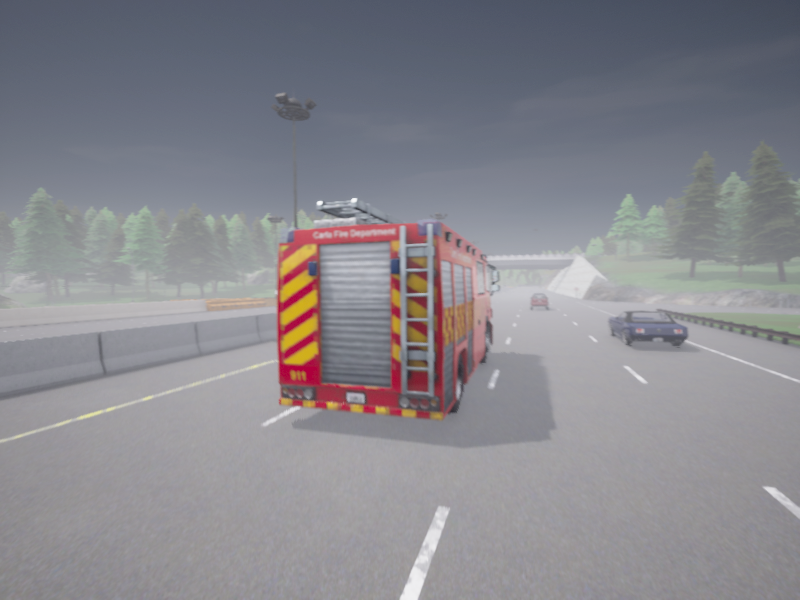vehicle: (277, 198, 499, 420), (608, 310, 688, 346), (530, 294, 548, 309)
